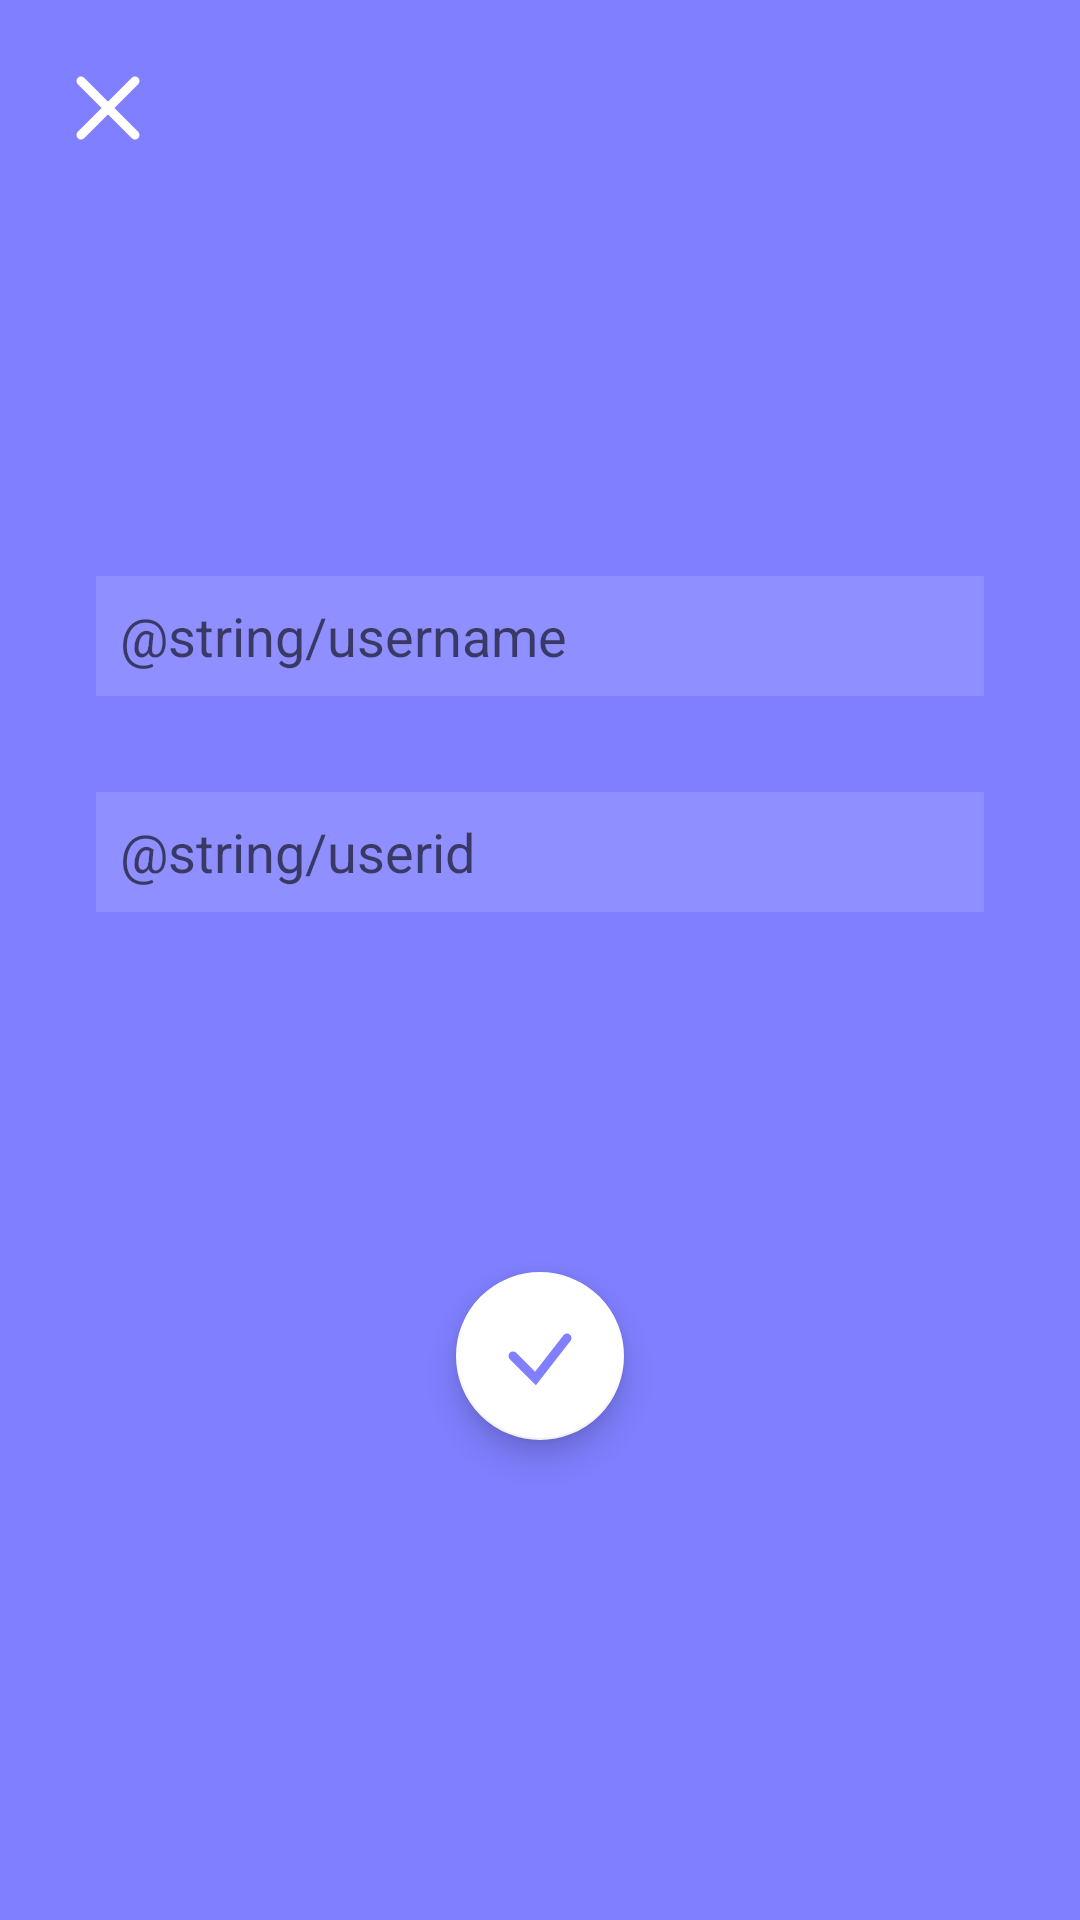

Where icons sit on this 1080px x 1920px app screen, as [x1, y1, x2, y2]:
close: [76, 76, 140, 140]
tick: [456, 1272, 624, 1440]
